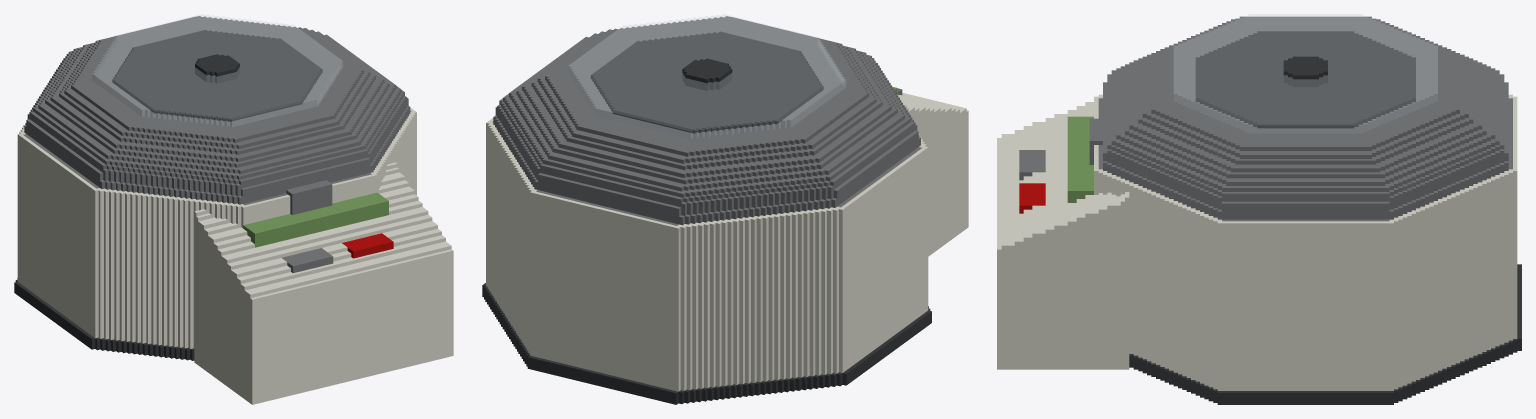
The model's file is microcentrifuge.glb.
3 views of the same model, side by side, from view 1: azimuth 30°, elevation 25°; view 2: azimuth 150°, elevation 25°; view 3: azimuth 270°, elevation 25° (orthographic). The views are drawn at different scales.
Visible parts, largest first — view 1: microcentrifuge:compound; view 2: microcentrifuge:compound; view 3: microcentrifuge:compound.
Part boxes in pixels (left/top/right/bottom): microcentrifuge:compound: left=14, top=14, right=453, bottom=404; microcentrifuge:compound: left=482, top=14, right=968, bottom=404; microcentrifuge:compound: left=997, top=14, right=1521, bottom=404.
Bounding box in the file's own units: 0.196 × 0.124 × 0.238.
